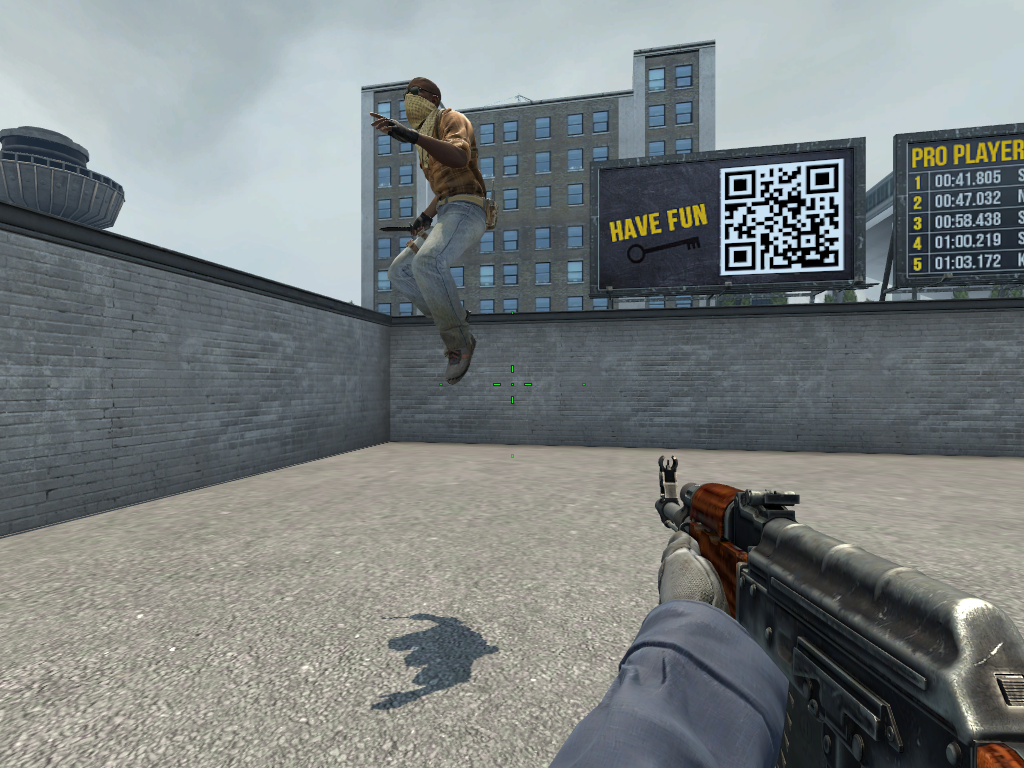tr head: (401, 76, 441, 126)
